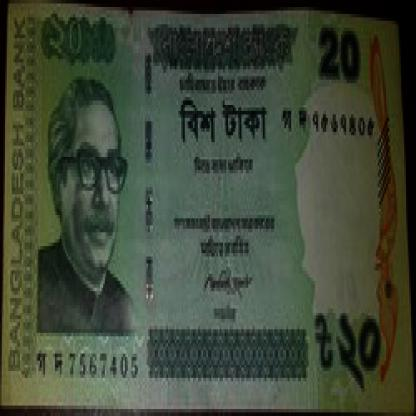Twenty: (308, 305, 403, 392), (35, 10, 126, 66), (304, 24, 373, 97)
